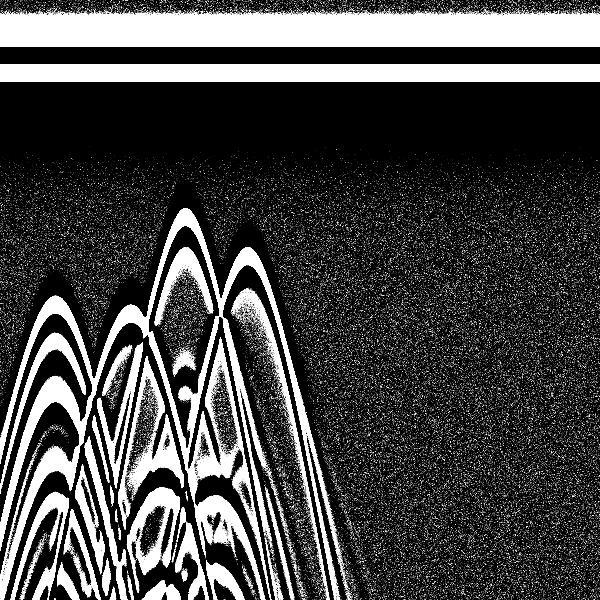pipe: (3, 7, 103, 397), (84, 5, 176, 382), (201, 6, 294, 327), (141, 6, 226, 300)
